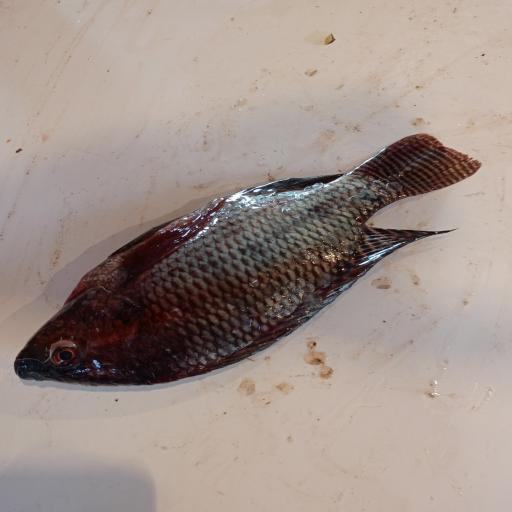Tilapia: (14, 133, 482, 388)
